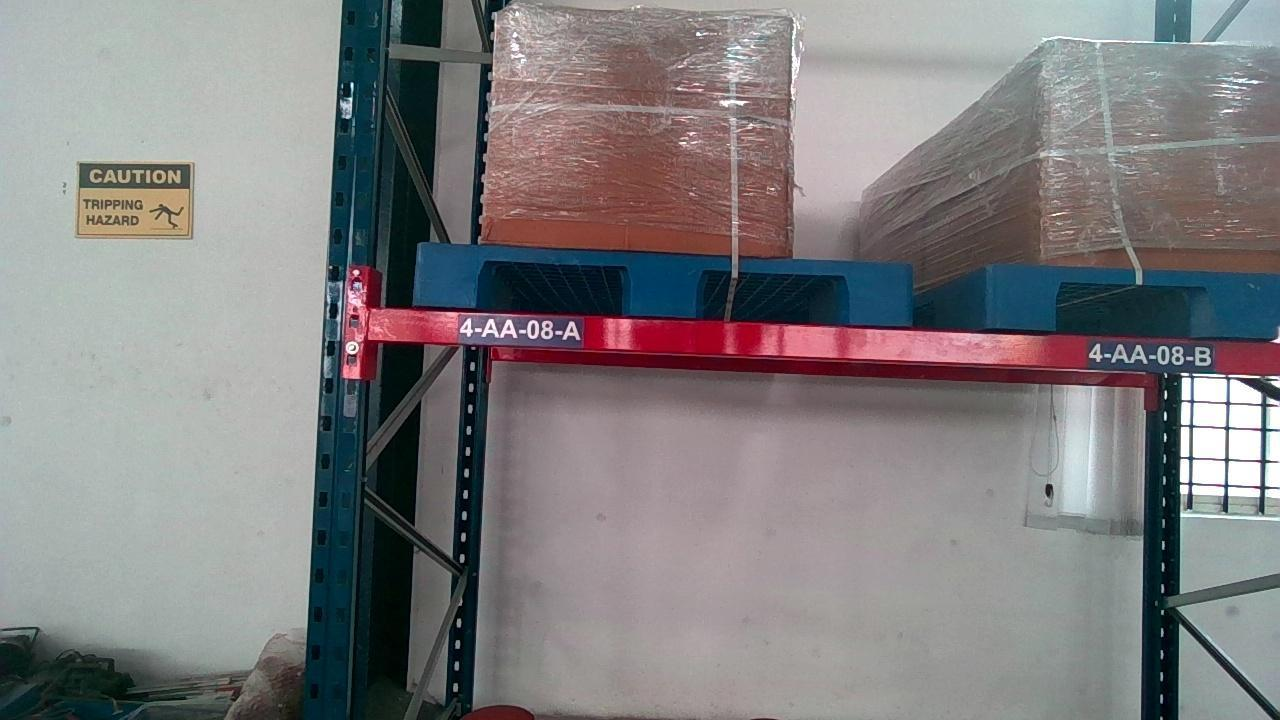h_rack: (370, 307, 1280, 371)
small_pallet: (409, 248, 914, 317), (994, 268, 1278, 332)
